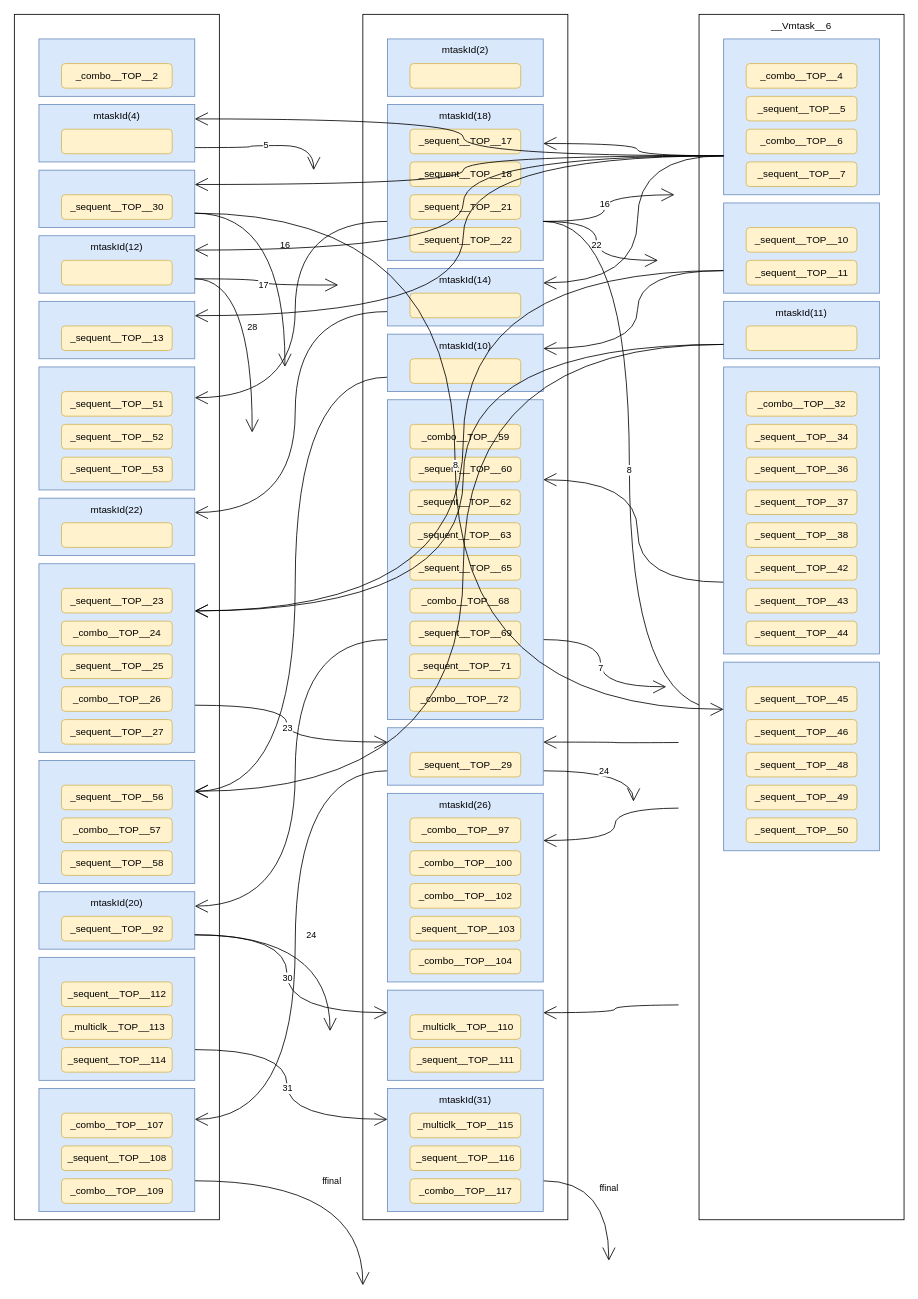
Some shapes in this 918 by 1299 pixel diagram are drawn without their labels. Here are the shapes that lost their labels. From the top down, the box of each, then its label:
(38, 38, 195, 96): mtaskId(1)
(409, 63, 521, 88): _combo__TOP__3
(723, 38, 879, 195): mtaskId(6)
(61, 128, 172, 154): _sequent__TOP__31
(38, 169, 195, 228): mtaskId(3)
(723, 202, 879, 293): mtaskId(13)
(61, 260, 172, 285): _sequent__TOP__9
(409, 292, 521, 318): _sequent__TOP__12
(38, 301, 195, 359): mtaskId(15)
(745, 325, 857, 351): _sequent__TOP__8
(409, 358, 521, 383): _sequent__TOP__54
(38, 366, 195, 490): mtaskId(9)
(723, 366, 879, 654): mtaskId(5)
(61, 522, 172, 547): _sequent__TOP__28
(387, 399, 543, 720): mtaskId(27)
(14, 14, 219, 1220): __Vmtask__1
(362, 14, 568, 1220): __Vmtask__2
(38, 563, 195, 752): mtaskId(21)
(387, 727, 543, 785): mtaskId(23)
(723, 661, 879, 851): mtaskId(8)
(38, 760, 195, 884): mtaskId(25)
(38, 957, 195, 1080): mtaskId(19)
(387, 989, 543, 1080): mtaskId(30)
(38, 1088, 195, 1212): mtaskId(29)
